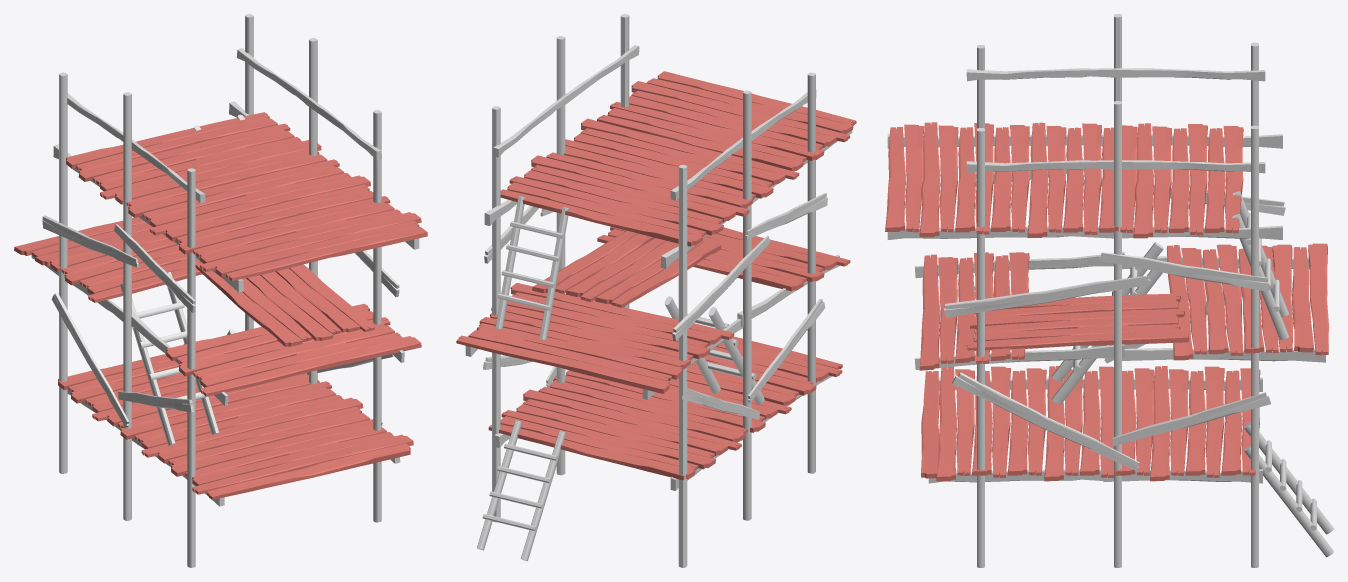
Rendered from BigScaffolding.fbx.
3 views of the same model, side by side, from view 1: azimuth 30°, elevation 25°; view 2: azimuth 150°, elevation 25°; view 3: azimuth 270°, elevation 25° (orthographic). The views are drawn at different scales.
Visible parts, largest first — view 1: GrandEchaffaudage; view 2: GrandEchaffaudage; view 3: GrandEchaffaudage.
Part boxes in pixels (x1,y1,x2,y2): GrandEchaffaudage: (14,14,427,567); GrandEchaffaudage: (456,14,856,567); GrandEchaffaudage: (885,14,1333,567).
Bounding box in the file's own units: 786 × 1495 × 1312.
